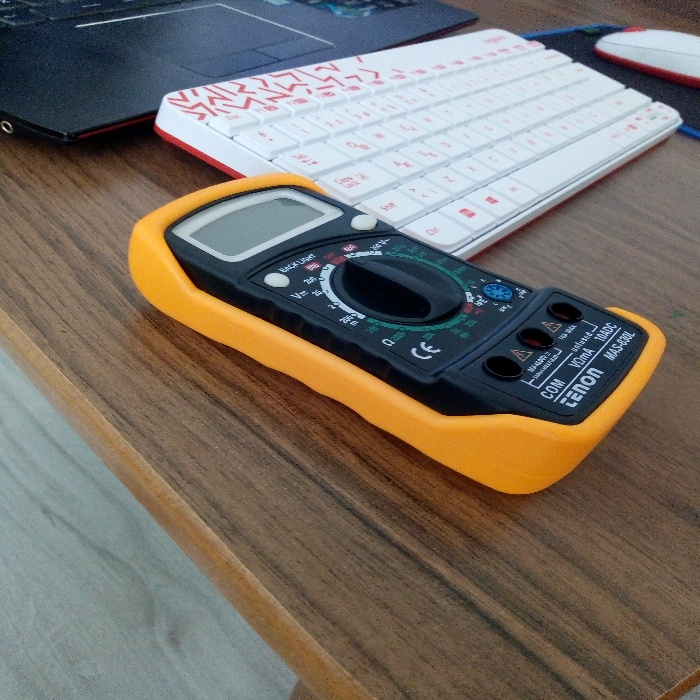multimetre: (96, 147, 667, 502)
